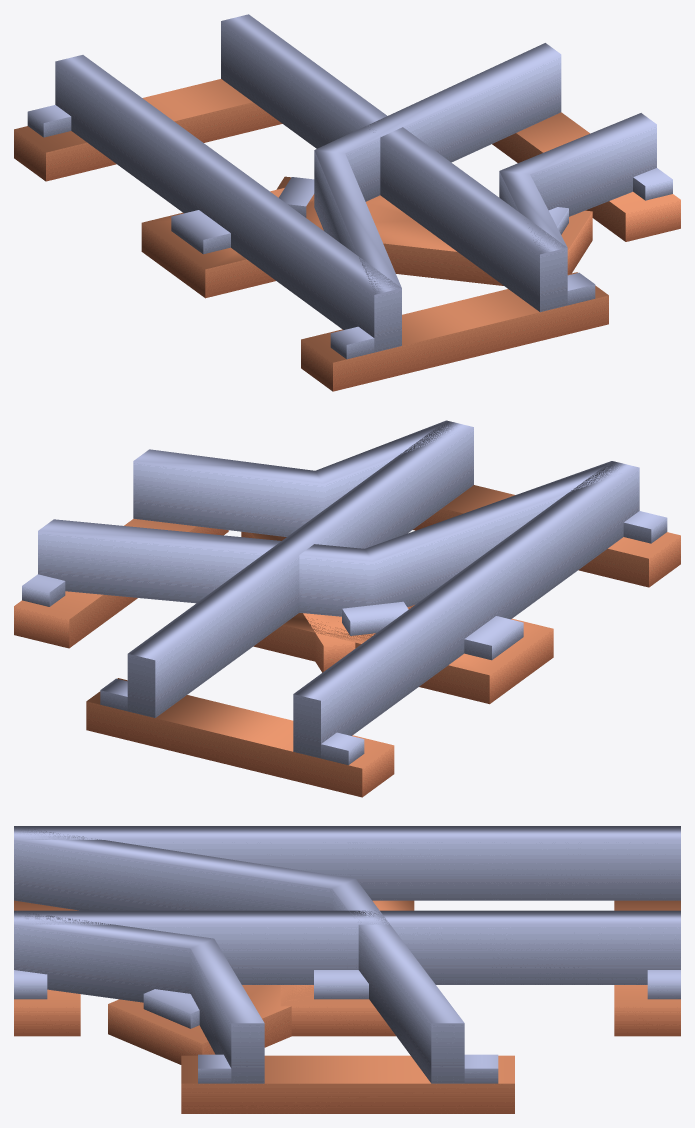
Rendered from cross3-R.glb.
3 renders of one model, top to bottom at view 1: azimuth 30°, elevation 25°; view 2: azimuth 150°, elevation 25°; view 3: azimuth 270°, elevation 25°, orthographic. The views are drawn at different scales.
Parts seen in each view (by area): view 1: cross3-R; view 2: cross3-R; view 3: cross3-R.
Part boxes in pixels (x1,y1,x2,y2): cross3-R: (14, 14, 680, 391); cross3-R: (14, 420, 680, 797); cross3-R: (14, 826, 680, 1113).
Bounding box in the file's own units: 0.775 × 0.15 × 1.
Materials: 2 (2 with a texture image).
